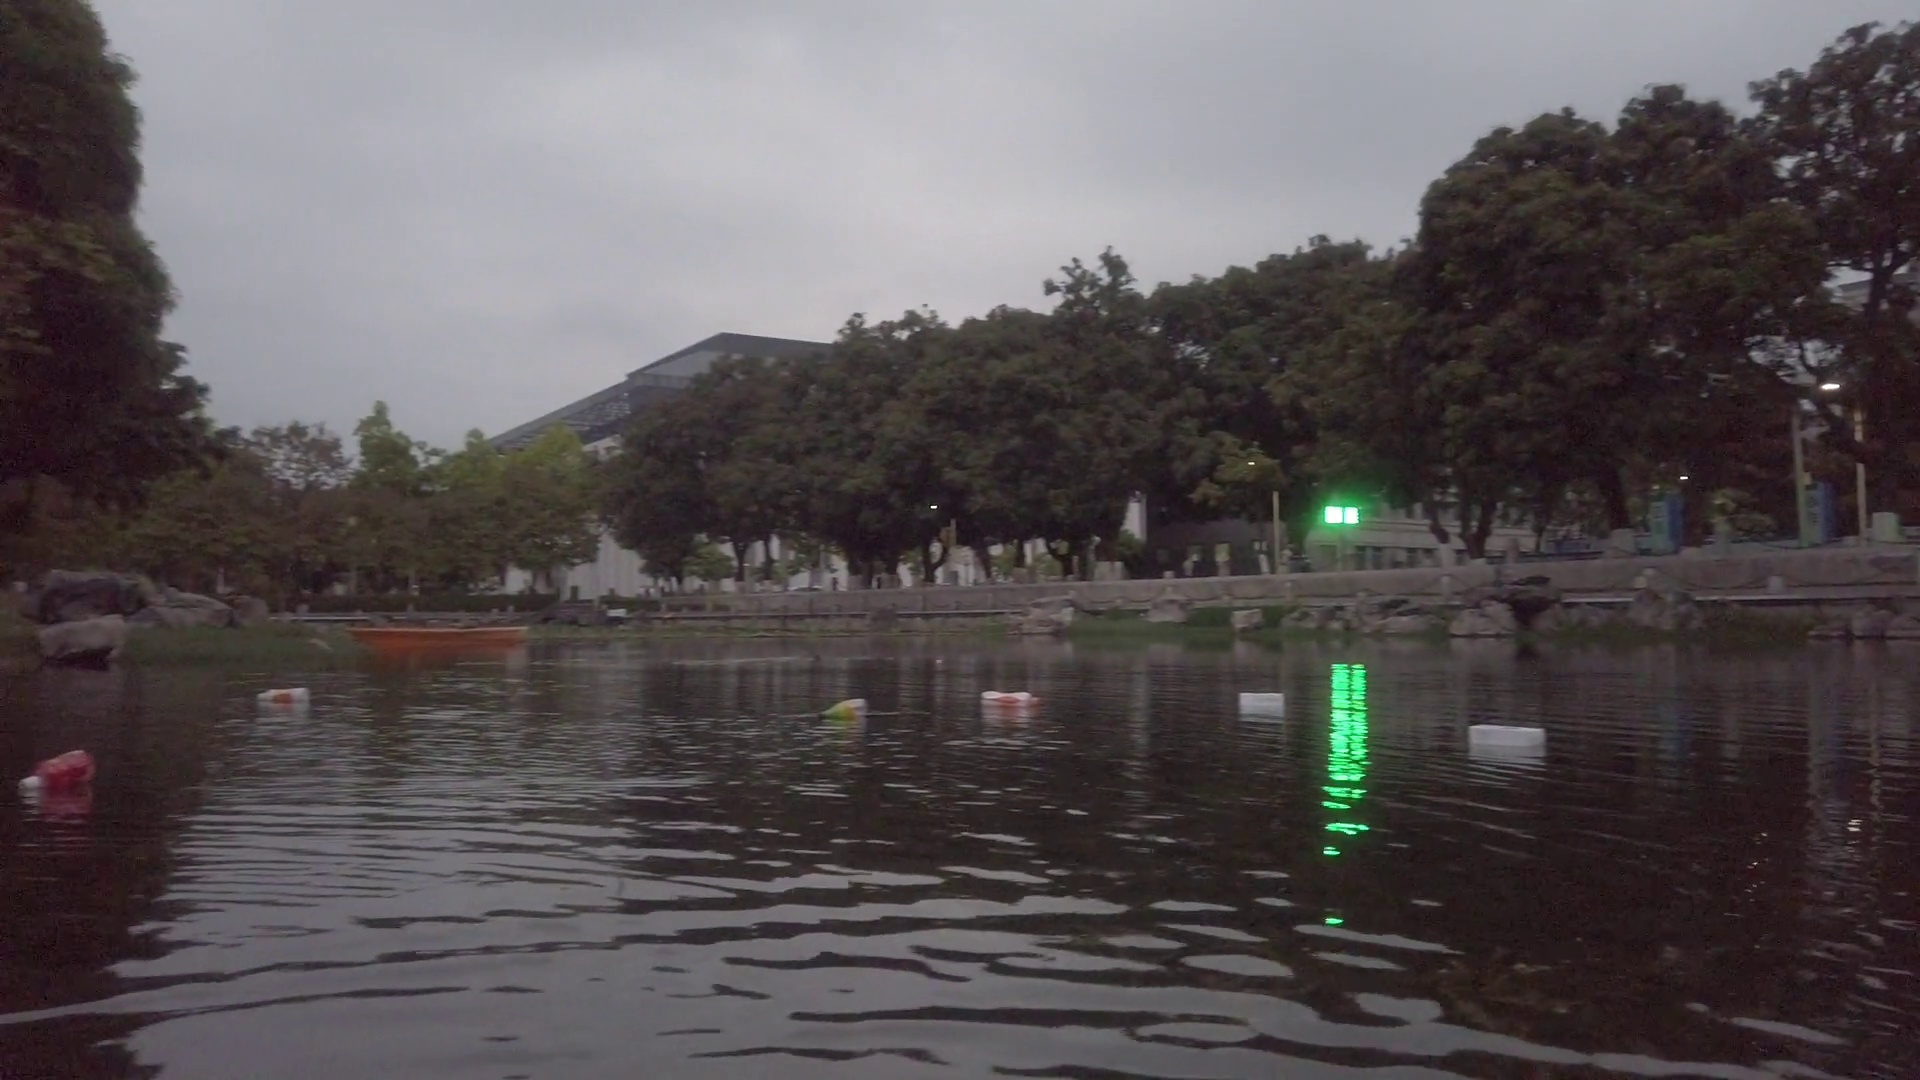bottle: (18, 748, 92, 789), (816, 696, 868, 720), (980, 688, 1039, 708), (257, 684, 310, 705)
carton: (1465, 723, 1545, 748), (1240, 691, 1287, 711)
